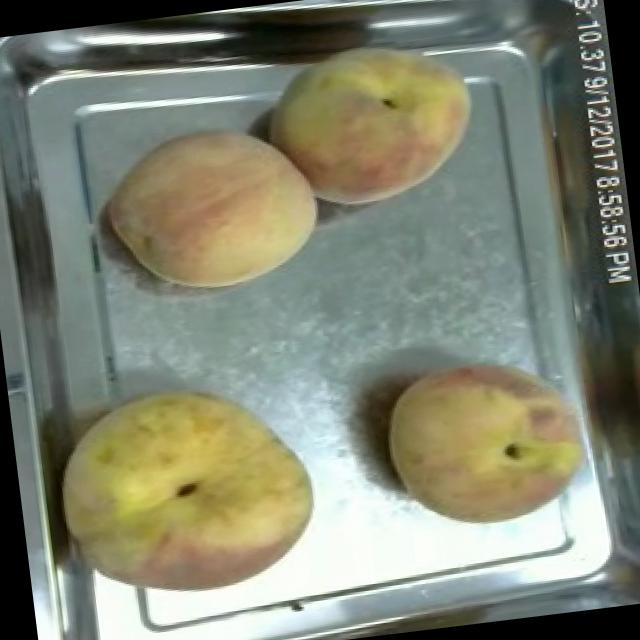Fruit: (37, 359, 336, 622), (247, 19, 495, 228), (90, 108, 336, 312), (370, 340, 608, 547)
